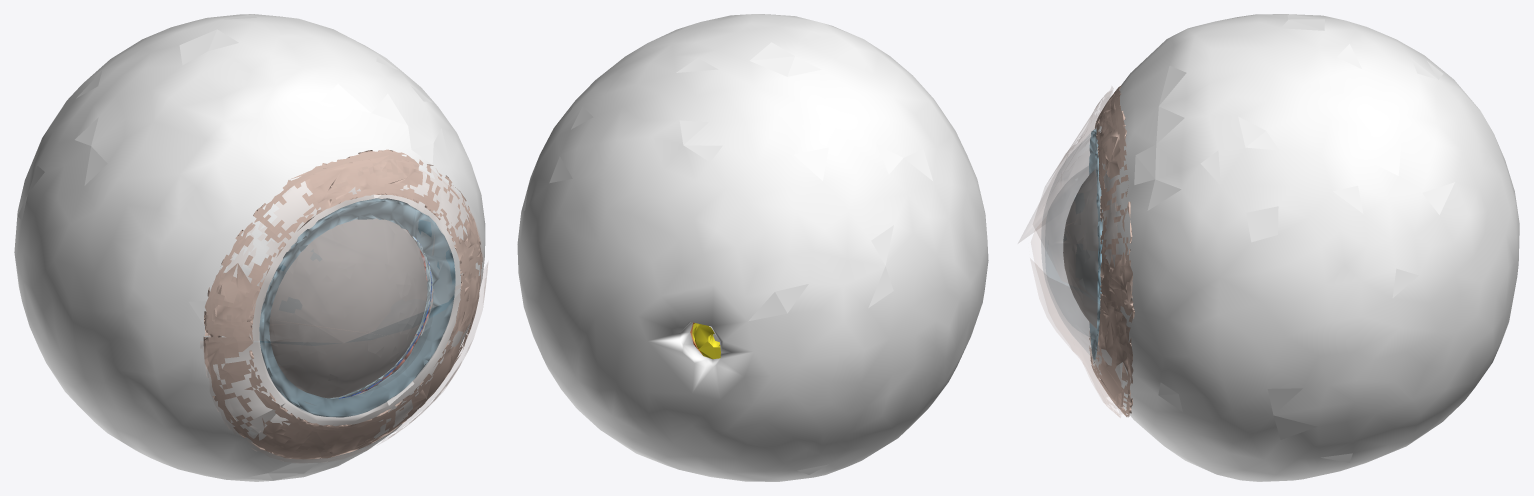
Rendered from 3d-vh-m-eye-l-20.glb.
The picture shows the model from 3 angles, left to right: view 1: azimuth 30°, elevation 25°; view 2: azimuth 150°, elevation 25°; view 3: azimuth 270°, elevation 25°; orthographic projection.
Parts seen in each view (by area): view 1: VH_M_sclera_L, VH_M_cornea_L, VH_M_palpebral_conjunctiva_of_upper_eyelid_L, VH_M_palpebral_conjunctiva_of_lower_eyelid_L, VH_M_bulbar_conjunctiva_L, VH_M_aqueous_humor_L, VH_M_corneo_scleral_junction_L, VH_M_trabecular_meshwork_L; view 2: VH_M_sclera_L, VH_M_optic_disc_L; view 3: VH_M_sclera_L, VH_M_cornea_L, VH_M_palpebral_conjunctiva_of_upper_eyelid_L, VH_M_bulbar_conjunctiva_L, VH_M_palpebral_conjunctiva_of_lower_eyelid_L, VH_M_aqueous_humor_L, VH_M_corneo_scleral_junction_L.
Part boxes in pixels (left/top/right/bottom): VH_M_sclera_L: left=14, top=14, right=485, bottom=481; VH_M_cornea_L: left=260, top=200, right=455, bottom=417; VH_M_palpebral_conjunctiva_of_upper_eyelid_L: left=208, top=156, right=483, bottom=342; VH_M_palpebral_conjunctiva_of_lower_eyelid_L: left=200, top=263, right=487, bottom=462; VH_M_bulbar_conjunctiva_L: left=203, top=149, right=482, bottom=459; VH_M_aqueous_humor_L: left=269, top=218, right=427, bottom=398; VH_M_corneo_scleral_junction_L: left=259, top=198, right=455, bottom=417; VH_M_trabecular_meshwork_L: left=326, top=236, right=432, bottom=398; VH_M_sclera_L: left=517, top=14, right=988, bottom=481; VH_M_optic_disc_L: left=694, top=324, right=720, bottom=359; VH_M_sclera_L: left=1092, top=14, right=1519, bottom=481; VH_M_cornea_L: left=1041, top=131, right=1100, bottom=359; VH_M_palpebral_conjunctiva_of_upper_eyelid_L: left=1018, top=87, right=1122, bottom=309; VH_M_bulbar_conjunctiva_L: left=1089, top=85, right=1134, bottom=417; VH_M_palpebral_conjunctiva_of_lower_eyelid_L: left=1030, top=228, right=1122, bottom=417; VH_M_aqueous_humor_L: left=1063, top=169, right=1098, bottom=328; VH_M_corneo_scleral_junction_L: left=1089, top=129, right=1102, bottom=360.
Size of the model in its own units: 0.0245 by 0.0244 by 0.0263.
